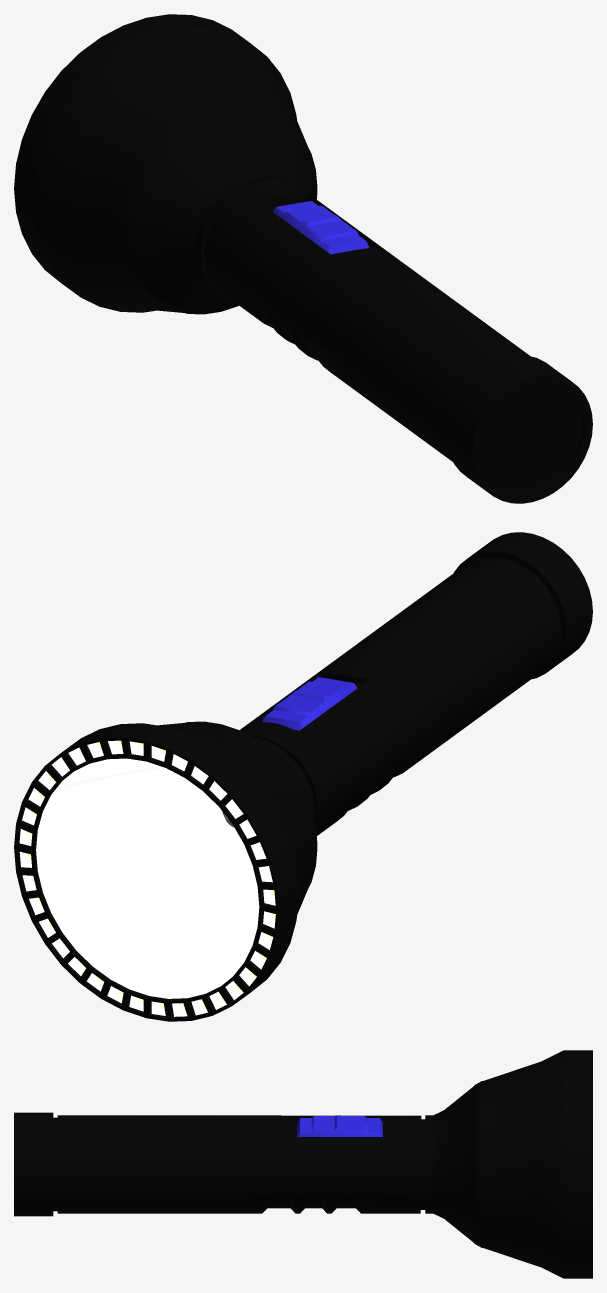
Rendered from flash_light.glb.
The picture shows the model from 3 angles, top to bottom: view 1: azimuth 30°, elevation 25°; view 2: azimuth 150°, elevation 25°; view 3: azimuth 270°, elevation 25°; orthographic projection. The views are drawn at different scales.
Parts seen in each view (by area): view 1: Cylinder, Cube; view 2: Cylinder, Cube; view 3: Cylinder, Cube.
Part boxes in pixels (x1,y1,x2,y2): Cylinder: (14,14,592,503); Cube: (273,201,369,254); Cylinder: (14,532,592,1021); Cube: (261,677,357,730); Cylinder: (14,1050,592,1278); Cube: (297,1115,382,1136).
Bounding box in the file's own units: 306 × 306 × 773.
